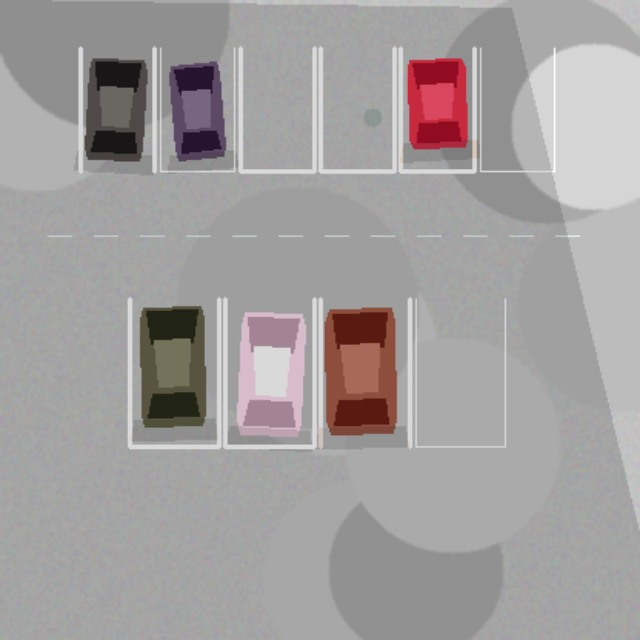space-empty: (415, 298, 505, 446), (240, 48, 314, 171), (320, 48, 394, 171), (480, 48, 554, 171)
space-occupied: (129, 298, 218, 446), (225, 298, 314, 446), (320, 298, 409, 446), (80, 48, 154, 171), (160, 48, 234, 171), (400, 48, 474, 171)
